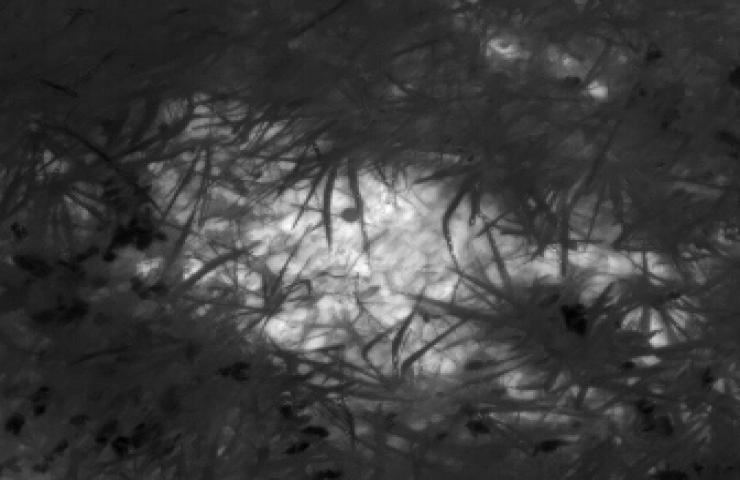landmines: (139, 90, 522, 378)
